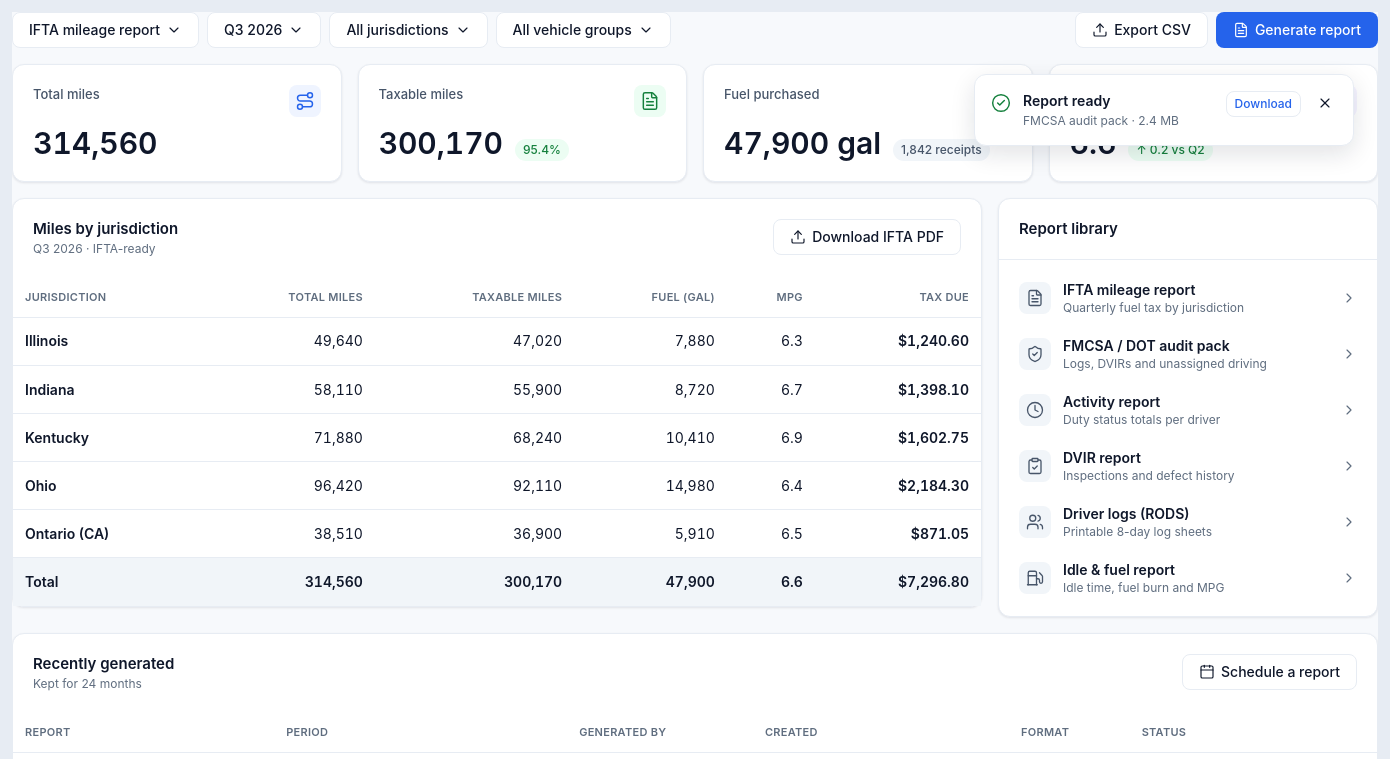
Test: W-12 Reports · IFTA › queues the IFTA CSV via Generate report and shows a Download IFTA PDF refusal verbatim (B-96, READ shortcut)
Click the button "Generate report" at (1297, 30), box [1216,12,1378,48]
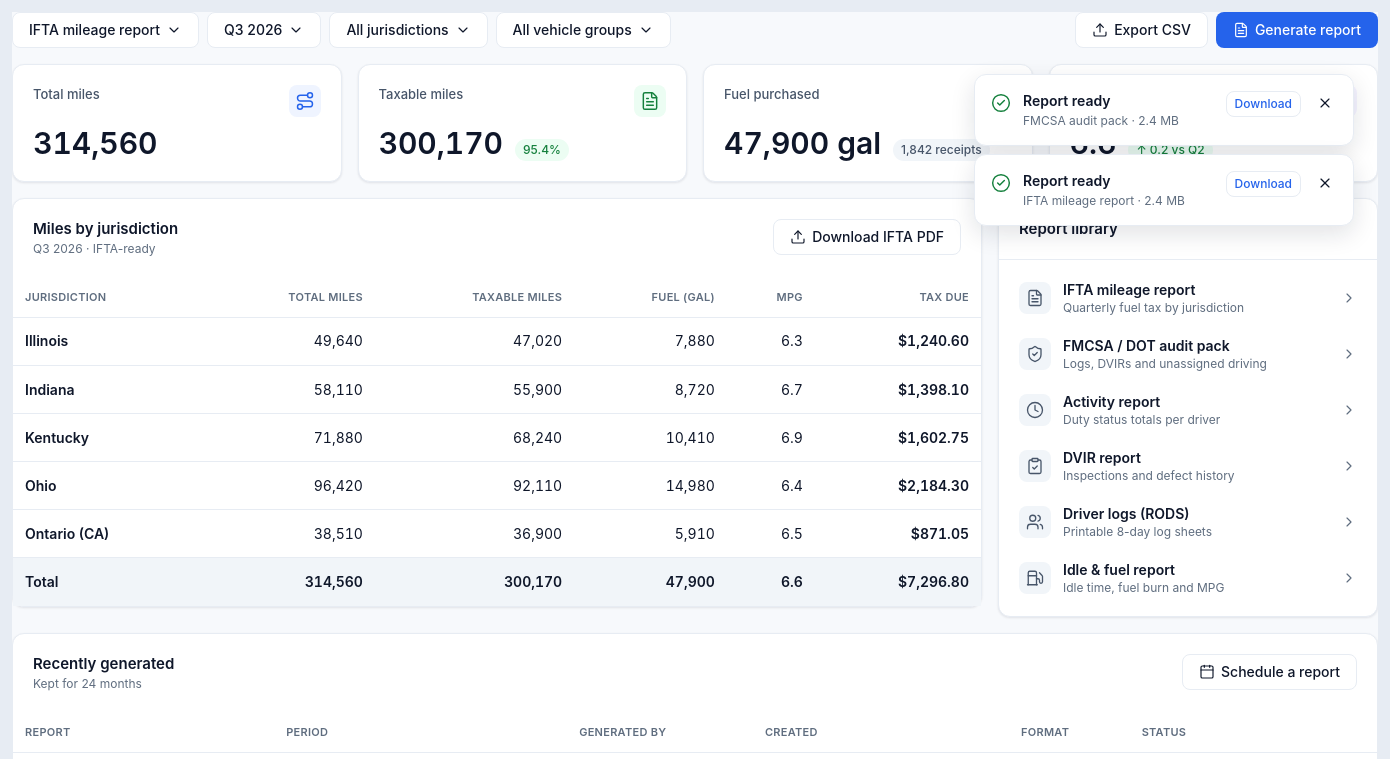
Click the button "Download IFTA PDF" at (867, 237), box [773,219,961,255]
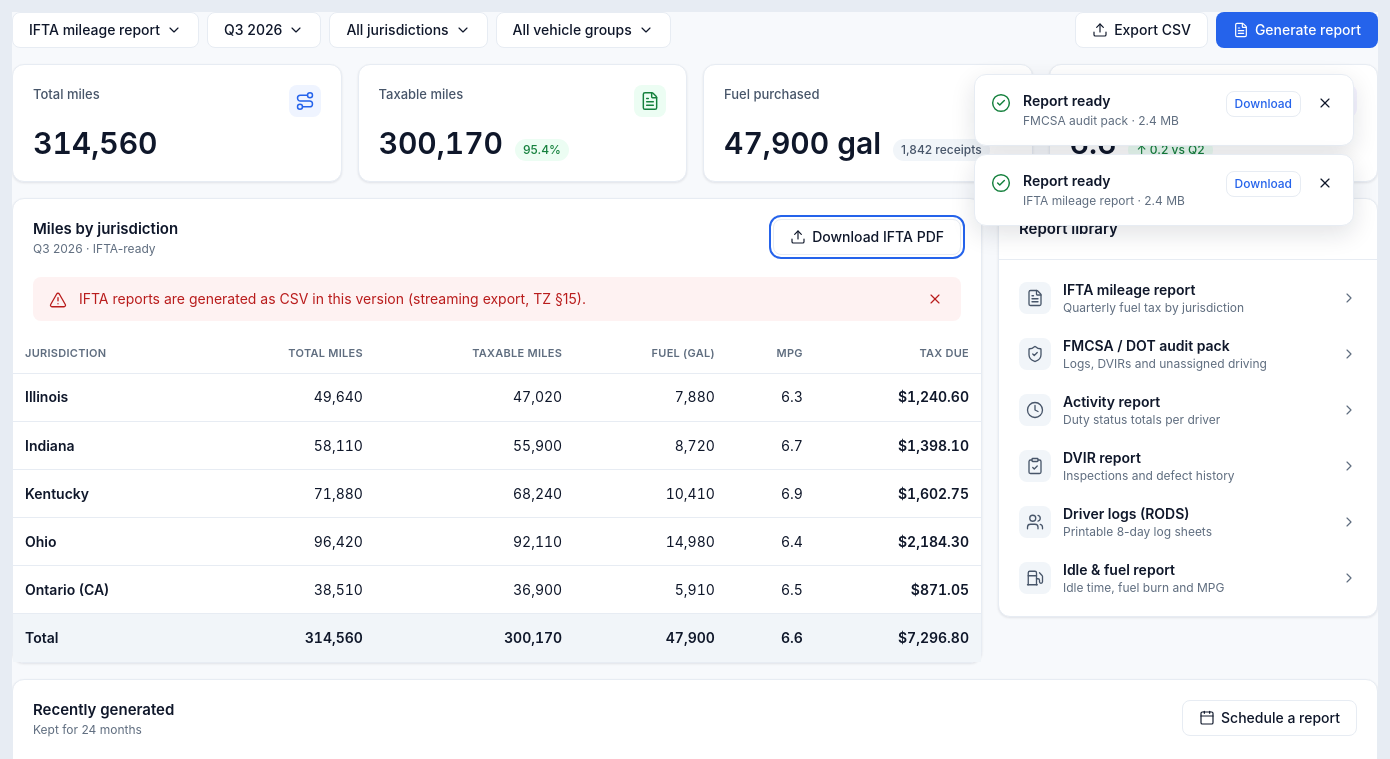
Result: the text "IFTA reports are generated as CSV in this version (streaming export, TZ §15)." is shown at [79,290,586,307]
